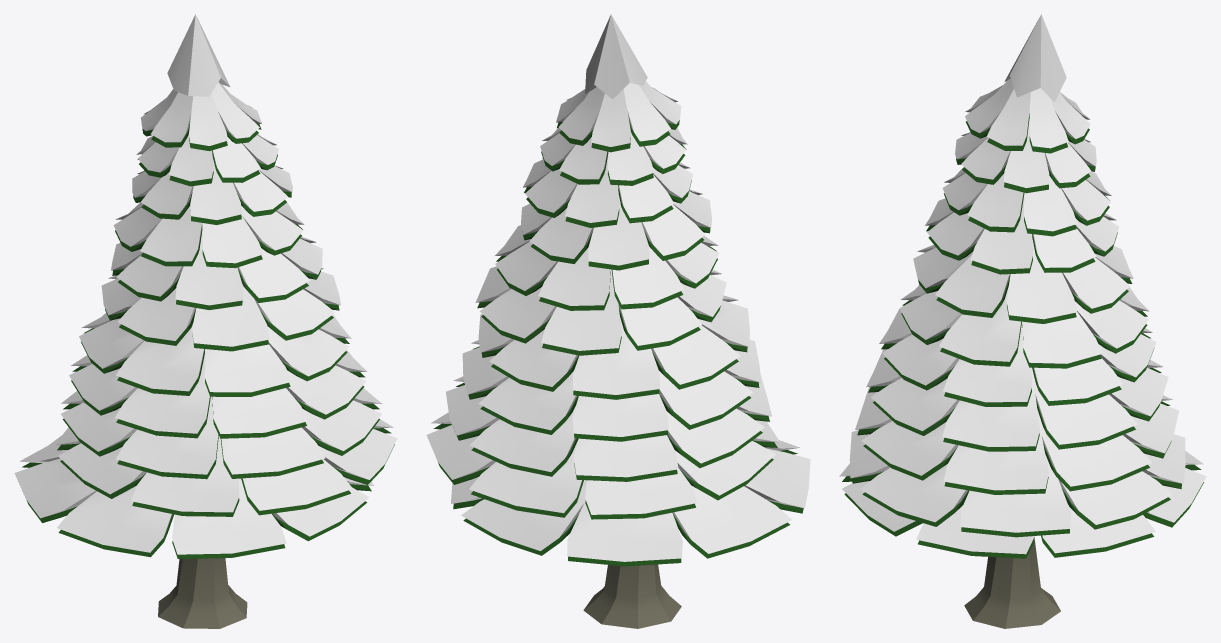
Rendered from blender env assets tree 7.fbx.
3 views of the same model, side by side, from view 1: azimuth 30°, elevation 25°; view 2: azimuth 150°, elevation 25°; view 3: azimuth 270°, elevation 25° (orthographic). The views are drawn at different scales.
Parts seen in each view (by area): view 1: Cylinder.024; view 2: Cylinder.024; view 3: Cylinder.024.
Boxes of the visible parts, bbox=[...] form: Cylinder.024: bbox=[14, 14, 397, 628]; Cylinder.024: bbox=[426, 14, 810, 628]; Cylinder.024: bbox=[839, 14, 1206, 628].
Size of the model in its own units: 154 by 264 by 147.
